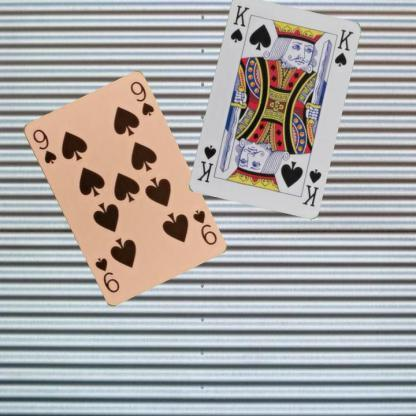9s: (28, 126, 58, 165), (190, 206, 218, 247)
Ks: (228, 2, 250, 44), (300, 166, 322, 208)
